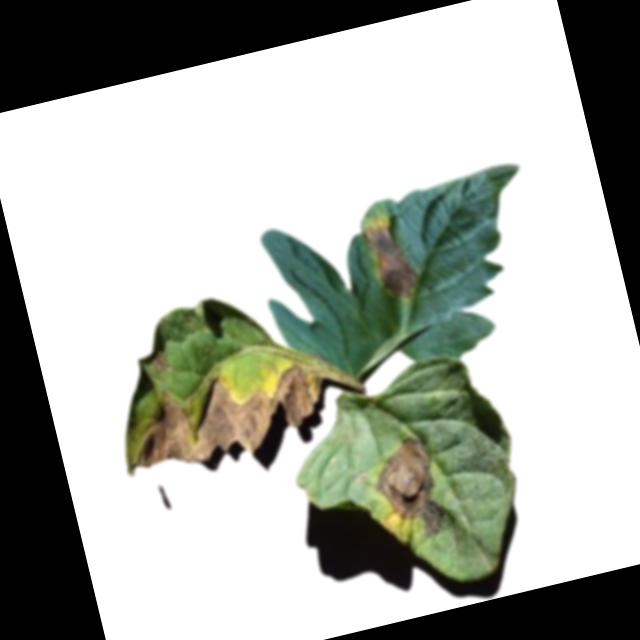Early_blight: (109, 347, 335, 480), (363, 430, 457, 548), (356, 210, 423, 306), (146, 347, 172, 375)
